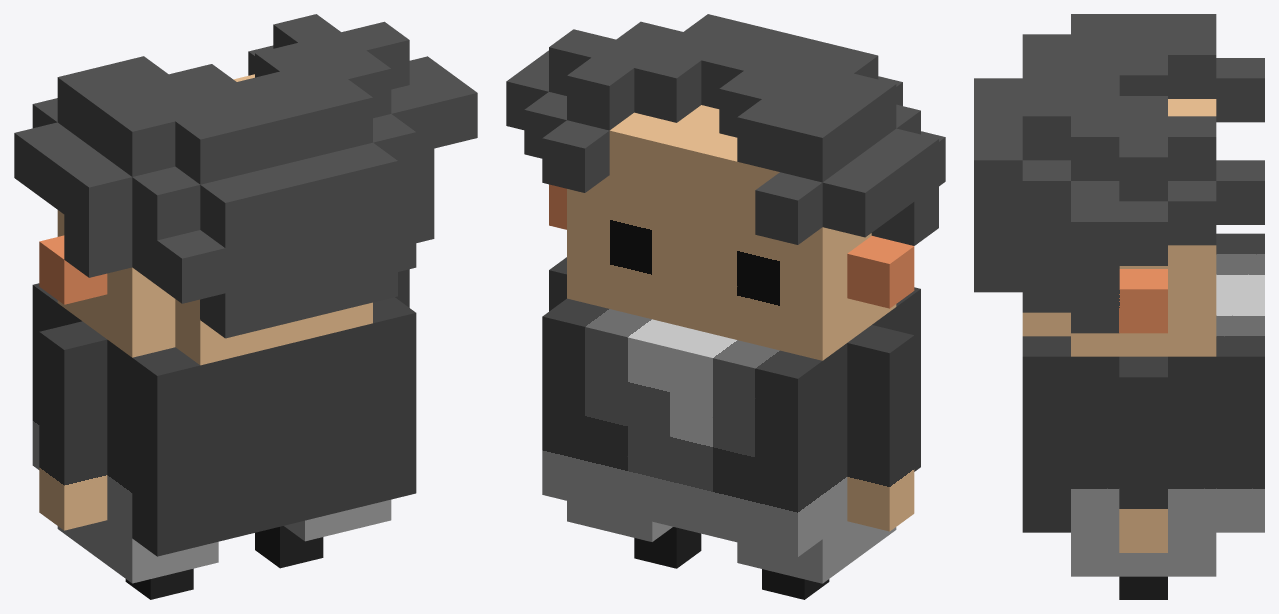
The model's file is chr_suit1.dae.
3 views of the same model, side by side, from view 1: azimuth 30°, elevation 25°; view 2: azimuth 150°, elevation 25°; view 3: azimuth 270°, elevation 25° (orthographic). The views are drawn at different scales.
Parts seen in each view (by area): view 1: chr_suit1; view 2: chr_suit1; view 3: chr_suit1.
Boxes of the visible parts, x1,y1,x2,y2 form: chr_suit1: (14, 14, 477, 599); chr_suit1: (506, 14, 945, 599); chr_suit1: (974, 14, 1264, 599).
Bounding box in the file's own units: 0.9 × 0.6 × 1.1.
